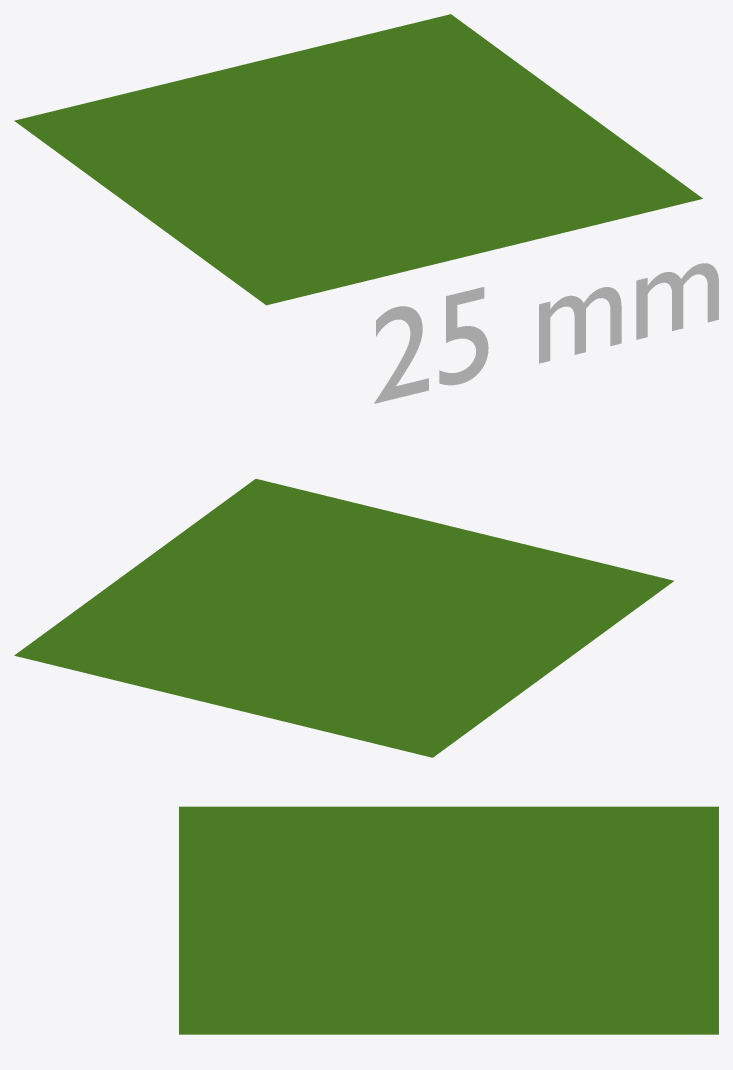
3 views of the same model, one above another, from view 1: azimuth 30°, elevation 25°; view 2: azimuth 150°, elevation 25°; view 3: azimuth 270°, elevation 25° (orthographic). The views are drawn at different scales.
Parts seen in each view (by area): view 1: Plane, Text; view 2: Plane; view 3: Plane.
Boxes of the visible parts, <box> form: Plane: <box>14,14,702,305</box>; Text: <box>374,263,718,403</box>; Plane: <box>14,479,673,757</box>; Plane: <box>179,806,718,1034</box>.
Bounding box in the file's own units: 2 × 0.405 × 2.61.
